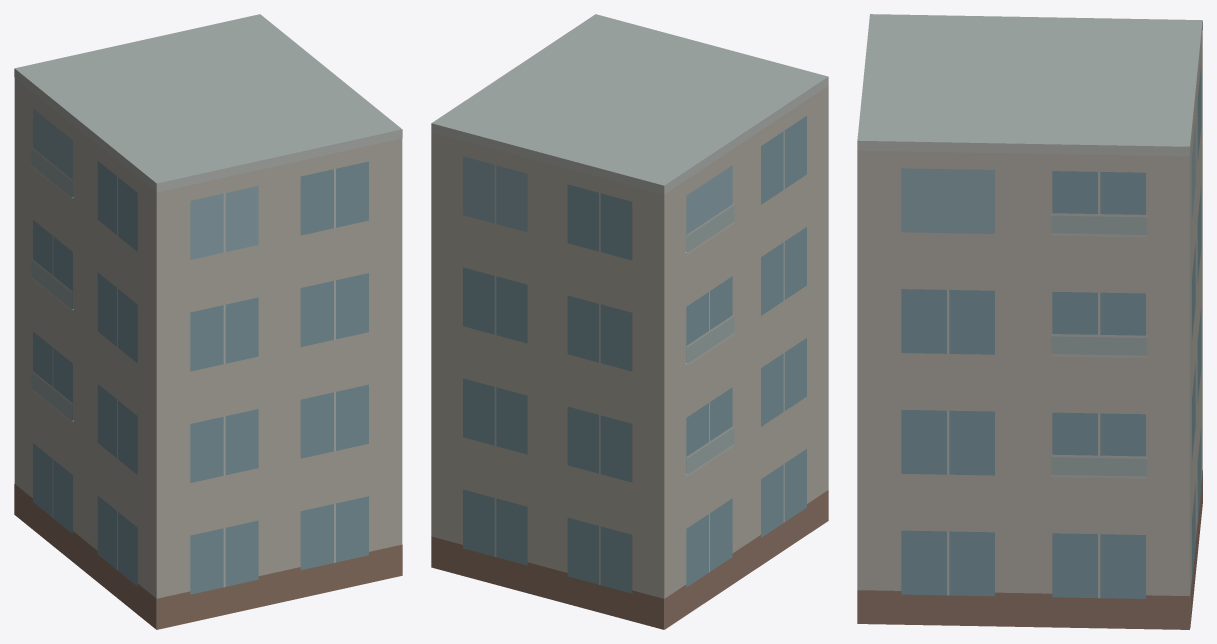
Rendered from residential-0c6fb2ba-cedf-48ad-86a4-fcdda2b549b1.glb.
The picture shows the model from 3 angles, left to right: view 1: azimuth 30°, elevation 25°; view 2: azimuth 150°, elevation 25°; view 3: azimuth 270°, elevation 25°; orthographic projection. The views are drawn at different scales.
Visible parts, largest first — view 1: residential-0c6fb2ba-cedf-48ad-86a4-fcdda2b549b1.tmp; view 2: residential-0c6fb2ba-cedf-48ad-86a4-fcdda2b549b1.tmp; view 3: residential-0c6fb2ba-cedf-48ad-86a4-fcdda2b549b1.tmp.
Part boxes in pixels (x1=…): residential-0c6fb2ba-cedf-48ad-86a4-fcdda2b549b1.tmp: x1=14, y1=14, x2=402, y2=629; residential-0c6fb2ba-cedf-48ad-86a4-fcdda2b549b1.tmp: x1=431, y1=14, x2=828, y2=629; residential-0c6fb2ba-cedf-48ad-86a4-fcdda2b549b1.tmp: x1=857, y1=14, x2=1202, y2=629.
Size of the model in its own units: 7.2 by 12.2 by 7.92.
